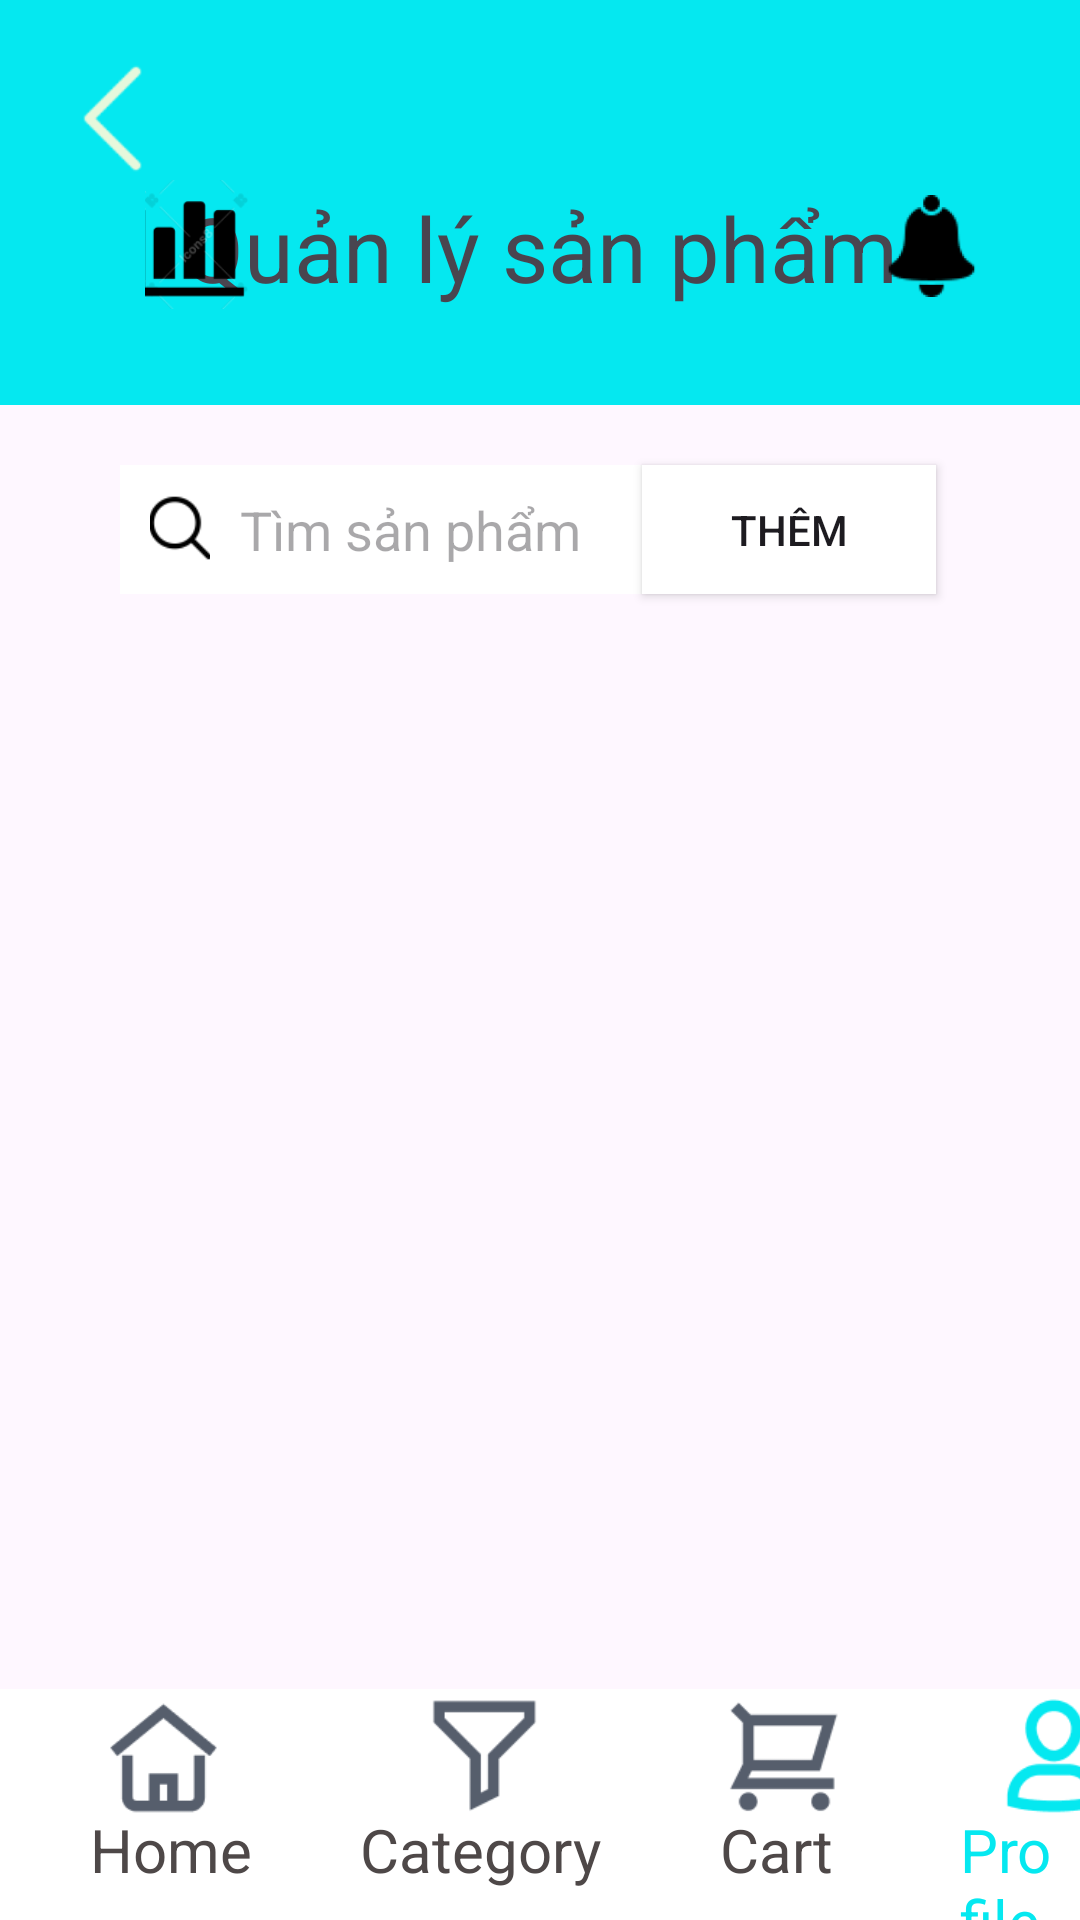

Icons on this 1080×1920 Android screen, each with its box as [x1,y1,x2,y2]:
back: [83,66,142,171]
find: [150,496,210,560]
ring: [879,195,975,297]
thongke: [145,180,245,309]
